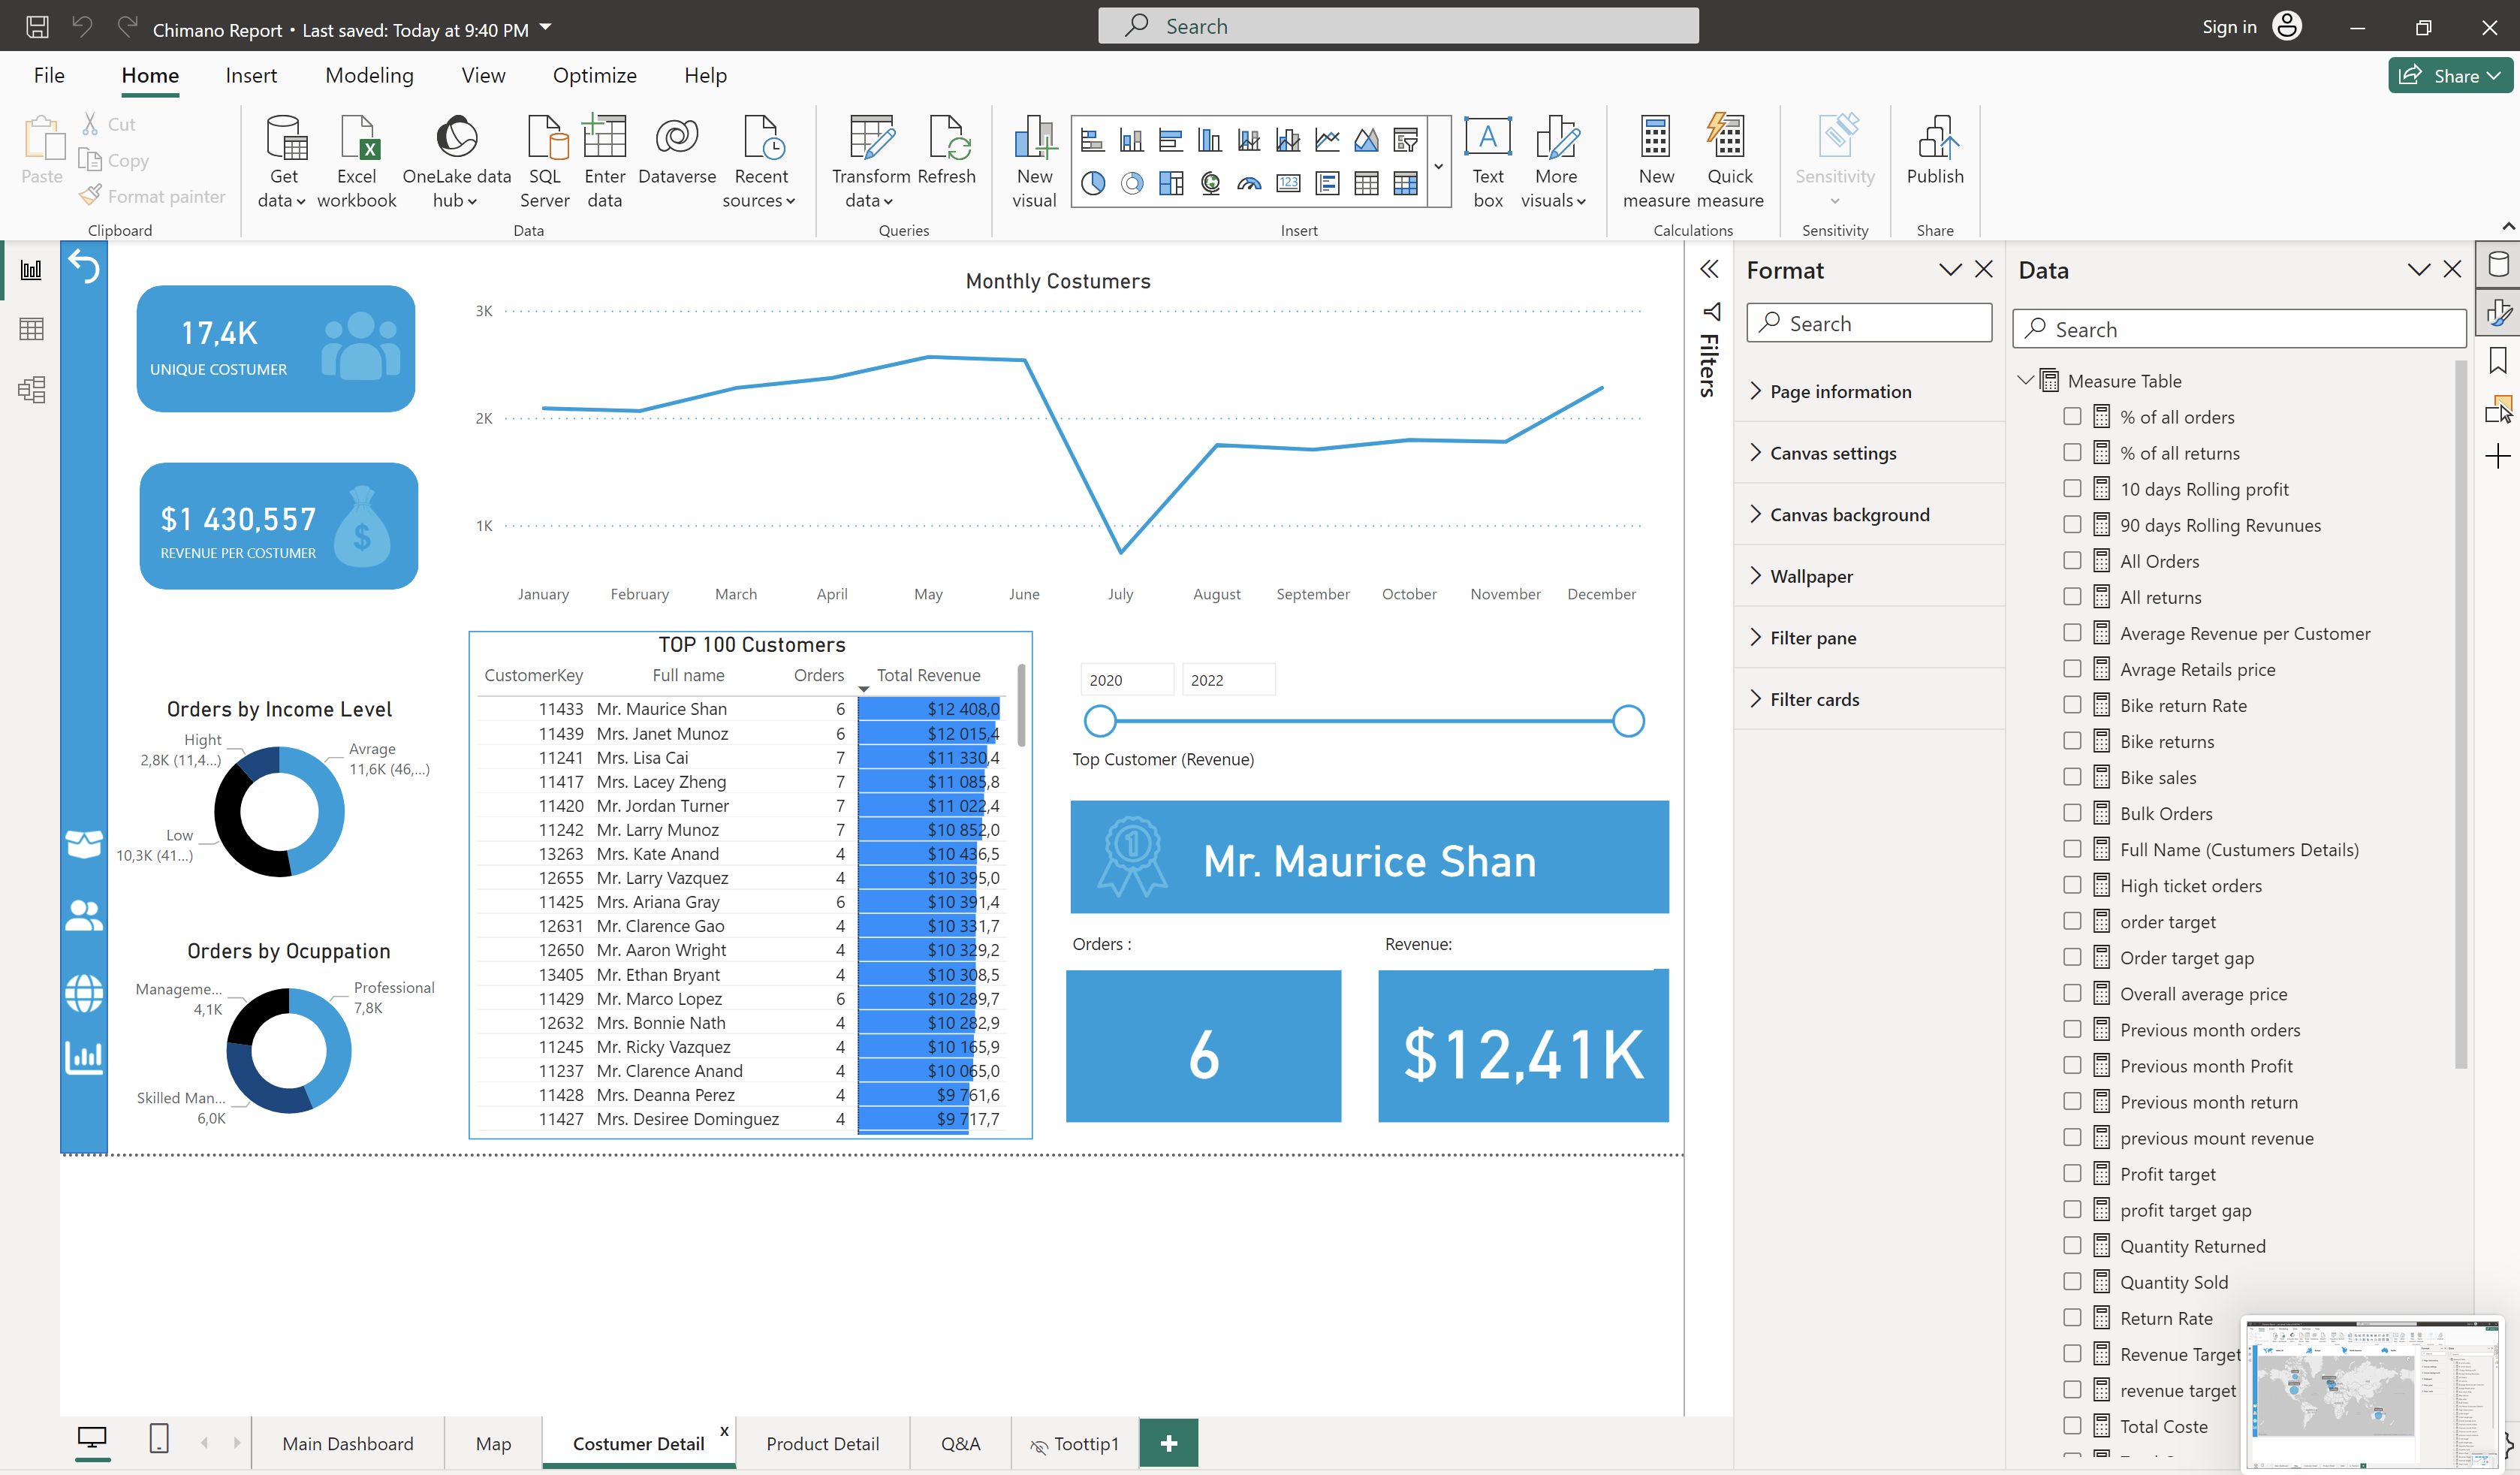

Layout of this report page (visuals, bound fields, positions):
{"tool":"powerbi","page":{"name":"Costumer Detail","canvas":[1280,720],"ordinal":2},"visuals":[{"type":"shape","box":[61,35.6,220,100],"z":0},{"type":"card","fields":{"Values":["Measure Table.Total Costumer"]},"box":[25.6,23.3,197.8,112.2],"z":1000},{"type":"shape","box":[62.8,175,220,100],"z":2000},{"type":"card","fields":{"Values":["Measure Table.Average Revenue per Customer"]},"box":[45.6,168.9,191.1,112.2],"z":3000},{"type":"lineChart","title":"Monthly Costumers","fields":{"Y":["Measure Table.Total Costumer"],"Category":["Calendar Lookup.Date.Variation.Date Hierarchy.Year","Calendar Lookup.Date.Variation.Date Hierarchy.Quarter","Calendar Lookup.Date.Variation.Date Hierarchy.Month","Calendar Lookup.Date.Variation.Date Hierarchy.Day"]},"box":[322.2,22.2,930,274.4],"z":4000},{"type":"donutChart","title":"Orders by Income Level","fields":{"Category":["Customer Lookup.Income Level"],"Y":["Measure Table.Total Orders"]},"box":[32.2,360,282.2,162.2],"z":5000},{"type":"donutChart","title":"Orders by Ocuppation ","fields":{"Y":["Measure Table.Total Orders"],"Category":["Customer Lookup.Occupation"]},"box":[54.4,551.1,252.2,157.8],"z":6000},{"type":"tableEx","title":"TOP 100 Customers ","fields":{"Values":["Customer Lookup.CustomerKey","Customer Lookup.Full name","Measure Table.Total Orders","Measure Table.Total Revenue"]},"box":[321.8,308.2,445.1,401.2],"z":7000},{"type":"card","fields":{"Values":["Measure Table.Full Name (Custumers Details)"]},"box":[796.7,441.1,472.2,88.9],"z":8000},{"type":"card","fields":{"Values":["Measure Table.Total Orders (Custumers Details)"]},"box":[793.8,574.4,217.2,121],"z":9000},{"type":"card","fields":{"Values":["Measure Table.Total Revenue (Custumers Details)"]},"box":[1040,574.4,228.9,121.1],"z":10000},{"type":"textbox","box":[793.4,394.8,217.4,36.2],"z":11000},{"type":"textbox","box":[1039.9,539.6,217.2,35.7],"z":12000},{"type":"textbox","box":[793.8,539.6,217.2,35.7],"z":13000},{"type":"shape","title":"Side bar","box":[0,0,37.8,720],"z":14000},{"type":"slicer","fields":{"Values":["Calendar Lookup.Start of Year.Variation.Date Hierarchy.Year"]},"box":[796.9,328.6,456.1,63.8],"z":15000},{"type":"actionButton","box":[0,1,37.6,37.6],"z":16000},{"type":"actionButton","box":[0,572.7,38.2,40.9],"z":17000},{"type":"actionButton","box":[0,456.4,38.2,40.9],"z":18000},{"type":"actionButton","box":[0,511.8,38.2,40.9],"z":19000},{"type":"actionButton","box":[0,623.6,38.2,40.9],"z":20000},{"type":"image","box":[202.2,187.8,71.1,74.4],"z":21000},{"type":"image","box":[201.1,46.7,72.2,73.3],"z":22000},{"type":"image","box":[805.6,448.9,81.1,74.4],"z":23000}]}

Visuals, with their boxes on the page's 1280x720 design canvas (x1, y1, x2, y2). These are canvas units, not pixel positions in the 2520x1475 screenshot, which may show the page scaled, cropped or inside an application window:
shape: BBox(61, 36, 281, 136)
card - Measure Table.Total Costumer: BBox(26, 23, 223, 136)
shape: BBox(63, 175, 283, 275)
card - Measure Table.Average Revenue per Customer: BBox(46, 169, 237, 281)
"Monthly Costumers" lineChart: BBox(322, 22, 1252, 297)
"Orders by Income Level" donutChart: BBox(32, 360, 314, 522)
"Orders by Ocuppation " donutChart: BBox(54, 551, 307, 709)
"TOP 100 Customers " tableEx: BBox(322, 308, 767, 709)
card - Measure Table.Full Name (Custumers Details): BBox(797, 441, 1269, 530)
card - Measure Table.Total Orders (Custumers Details): BBox(794, 574, 1011, 695)
card - Measure Table.Total Revenue (Custumers Details): BBox(1040, 574, 1269, 696)
textbox: BBox(793, 395, 1011, 431)
textbox: BBox(1040, 540, 1257, 575)
textbox: BBox(794, 540, 1011, 575)
"Side bar" shape: BBox(0, 0, 38, 720)
slicer - Calendar Lookup.Start of Year.Variation.Date Hierarchy.Year: BBox(797, 329, 1253, 392)
actionButton: BBox(0, 1, 38, 39)
actionButton: BBox(0, 573, 38, 614)
actionButton: BBox(0, 456, 38, 497)
actionButton: BBox(0, 512, 38, 553)
actionButton: BBox(0, 624, 38, 664)
image: BBox(202, 188, 273, 262)
image: BBox(201, 47, 273, 120)
image: BBox(806, 449, 887, 523)
